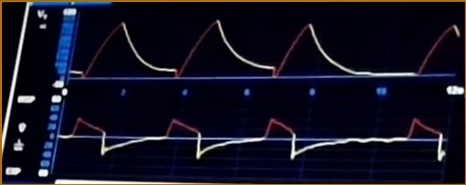Flow: (63, 108, 446, 179)
Leakage Volume: (70, 18, 462, 83)
